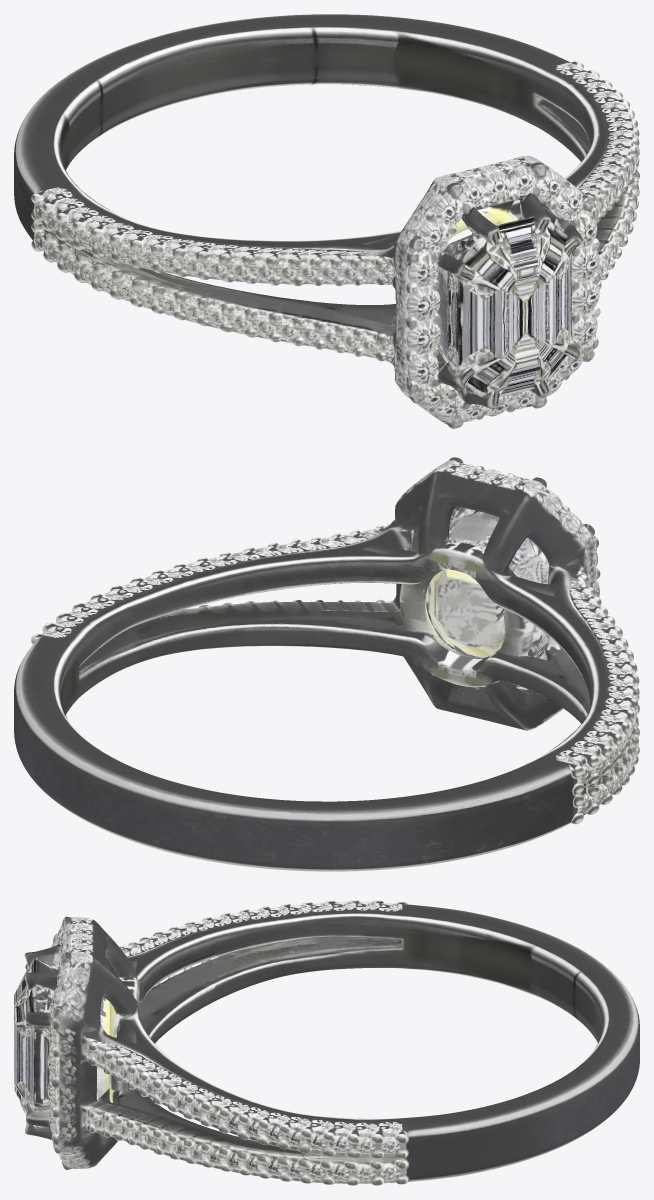
The model's file is emerald-halo-engagement-ring-opt.glb.
3 renders of one model, top to bottom at view 1: azimuth 30°, elevation 25°; view 2: azimuth 150°, elevation 25°; view 3: azimuth 270°, elevation 25°, orthographic. The views are drawn at different scales.
Visible parts, largest first — view 1: mesh_node; view 2: mesh_node; view 3: mesh_node.
Part boxes in pixels (bbox=[...]): mesh_node: bbox=[14, 14, 639, 428]; mesh_node: bbox=[14, 457, 639, 871]; mesh_node: bbox=[14, 900, 639, 1185].
Size of the model in its own units: 1.71 by 0.7212 by 1.9.
Materials: 1 (1 with a texture image).
